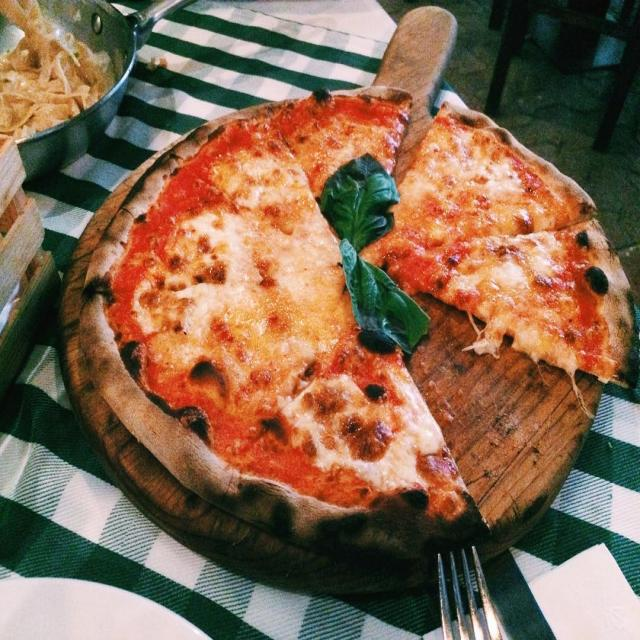basil: (339, 237, 434, 358), (317, 149, 403, 253)
pizza: (82, 90, 638, 558)
